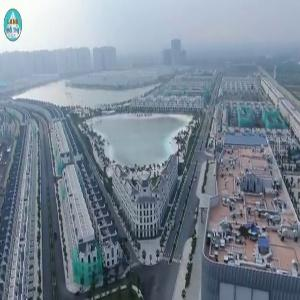drone: (215, 202, 276, 263)
